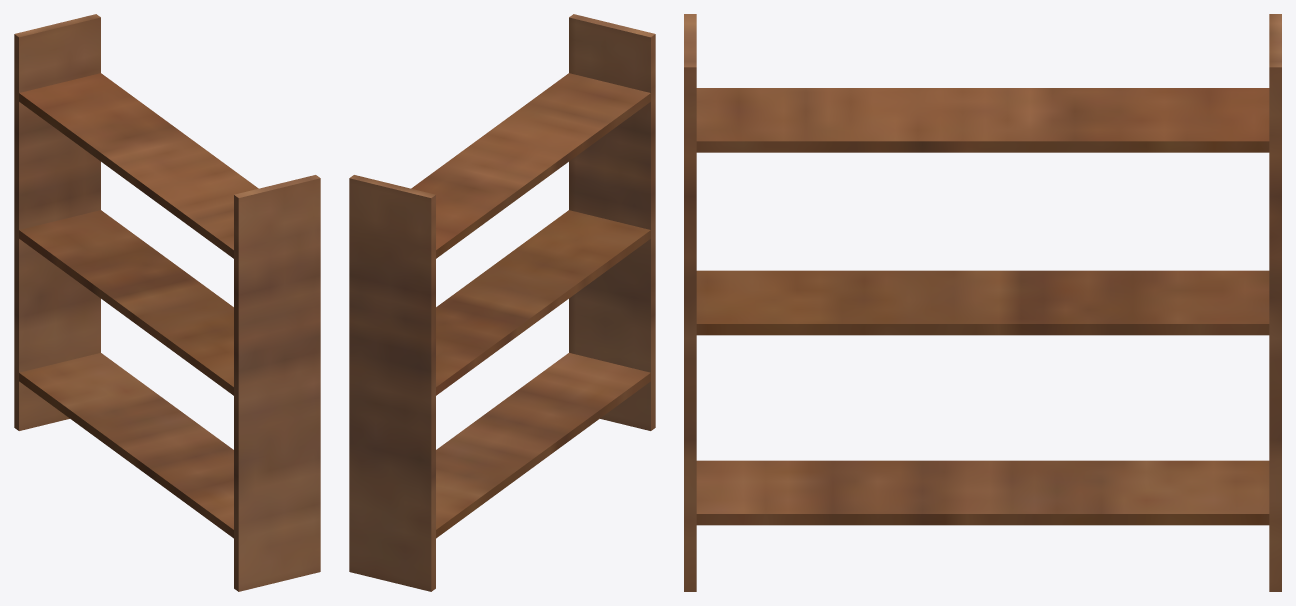
Rendered from Shelf.fbx.
The picture shows the model from 3 angles, left to right: view 1: azimuth 30°, elevation 25°; view 2: azimuth 150°, elevation 25°; view 3: azimuth 270°, elevation 25°; orthographic projection. The views are drawn at different scales.
Parts seen in each view (by area): view 1: Cube; view 2: Cube; view 3: Cube.
Part boxes in pixels (x1=…): Cube: x1=14, y1=14, x2=320, y2=591; Cube: x1=349, y1=14, x2=655, y2=591; Cube: x1=684, y1=14, x2=1281, y2=591.
Size of the model in its own units: 0.8 by 3.67 by 3.79.
1 material, 1 textured.
